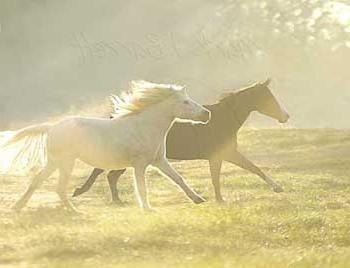horse: (0, 79, 211, 216), (71, 76, 289, 205)
